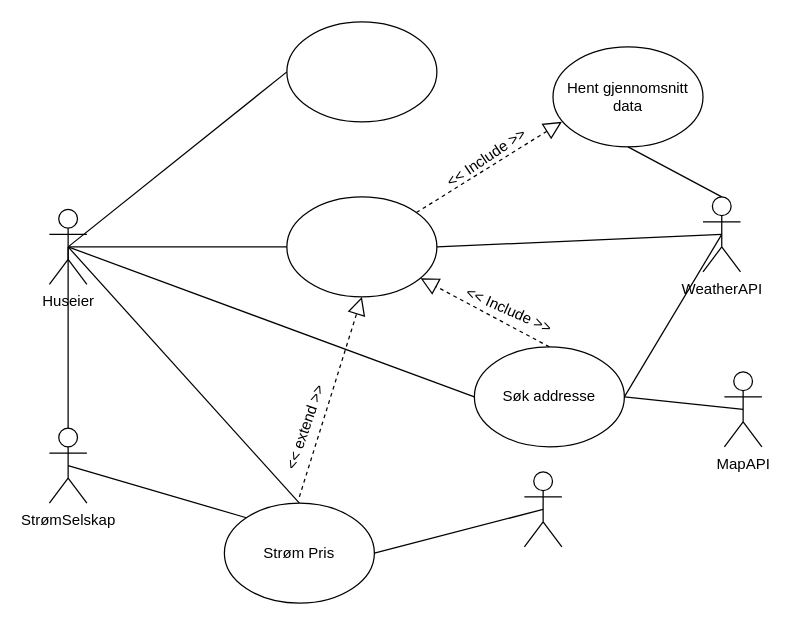
The diagram is 791 pixels wide and 625 high, and some of its shapes have lost their labels. Each missing label, with the centre of its shape:
"Hent Vær data" goes at point 361,246.
"HvaKosterStrømmenAPI" goes at point 542,509.
"Velg språk" goes at point 361,71.
